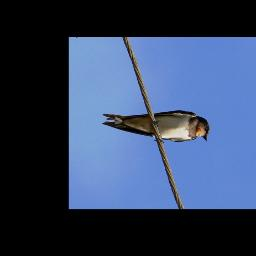Swallow: (99, 84, 215, 169)
